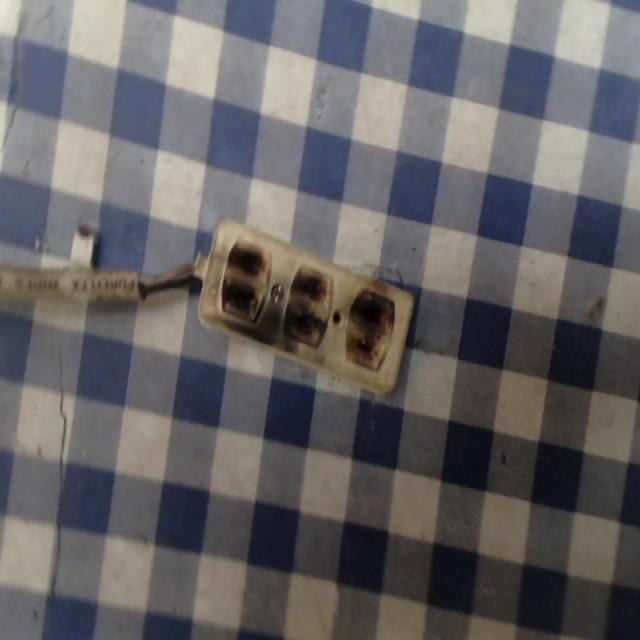-: (215, 235, 272, 322), (281, 256, 333, 349), (345, 286, 391, 370)
